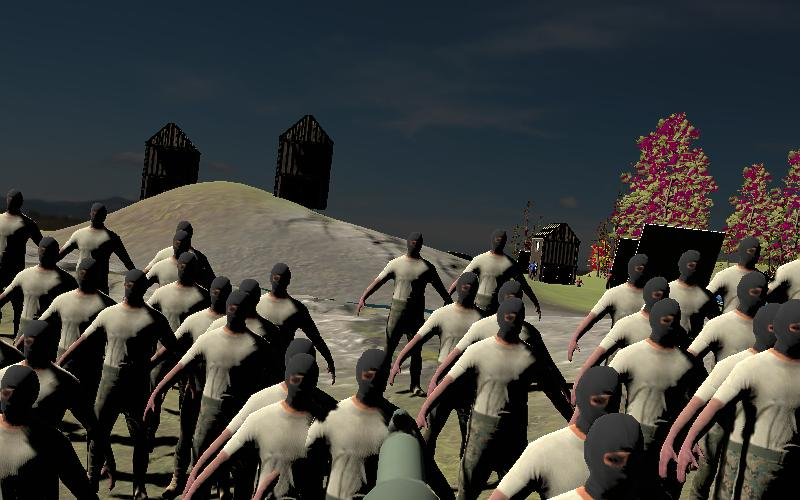Human: (407, 274, 576, 497), (139, 272, 277, 498), (53, 258, 184, 496), (658, 297, 800, 500), (602, 280, 711, 495), (388, 271, 549, 411), (301, 345, 428, 500), (352, 229, 454, 395), (242, 335, 339, 500), (0, 362, 106, 500), (0, 364, 103, 500), (0, 239, 79, 362), (0, 188, 47, 336)
